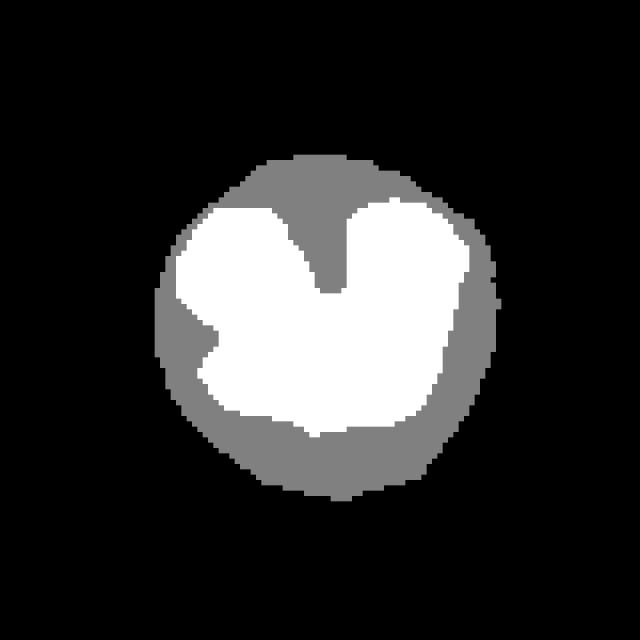WBC: (144, 139, 512, 528)
